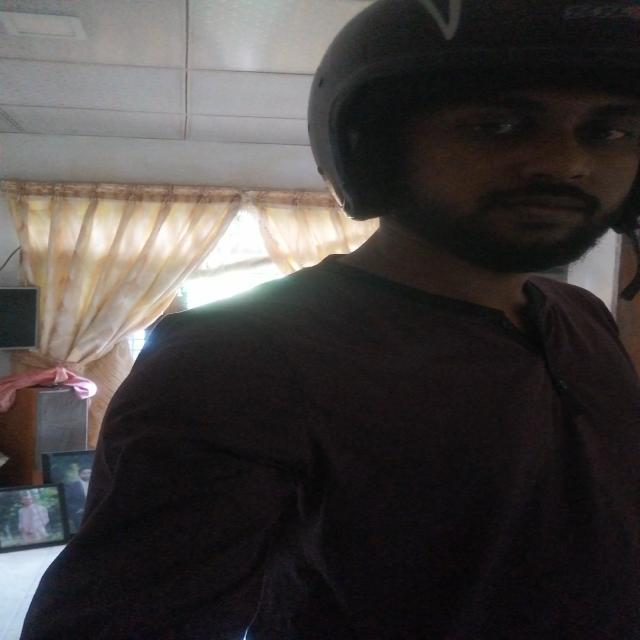Helmet_Wearer: (281, 0, 640, 275)
Person: (0, 0, 640, 640)
